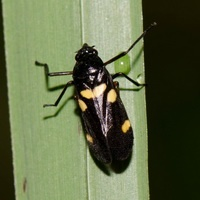insect: (35, 22, 156, 163)
